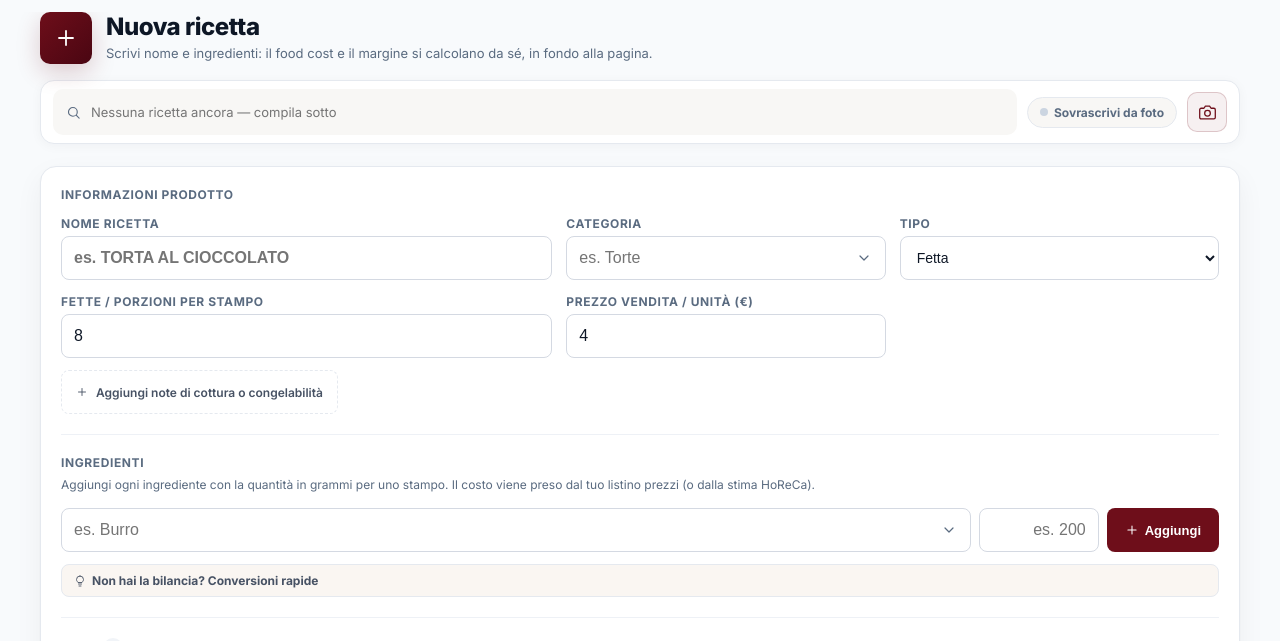
it: Nuovo gusto - note di cottura: apre e chiude › a sezione chiusa con qualcosa dentro, il pulsante lo dice e non fa credere che sia perso
Click the button "Aggiungi note di cottura o congelabilità": x=199, y=392 [61,370,338,414]
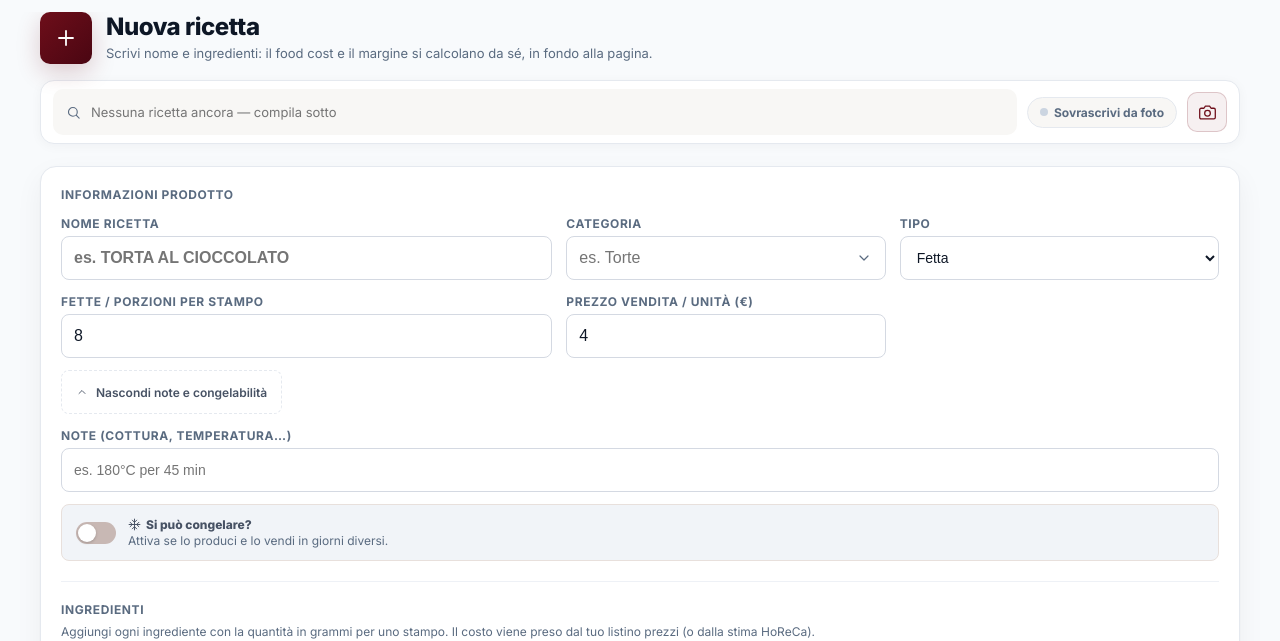
In the field named "note ricetta": x=640, y=470 [61,448,1219,492], type "180°C per 45 min"
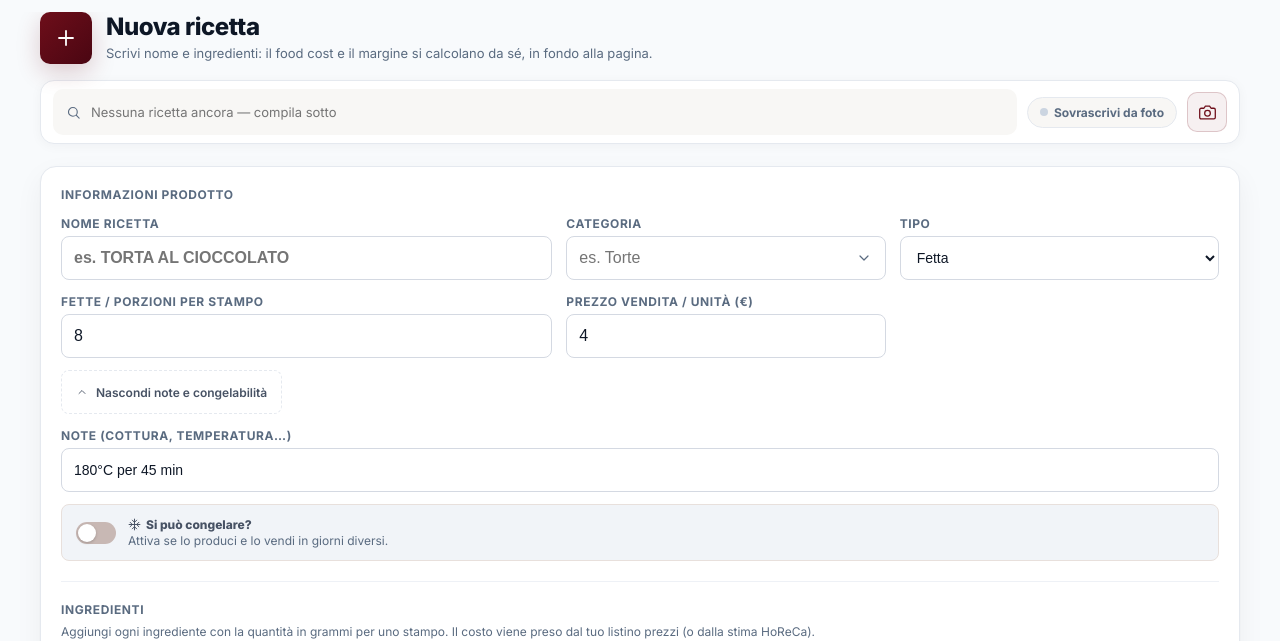
Click the button "Nascondi note e congelabilità": x=172, y=392 [61,370,282,414]
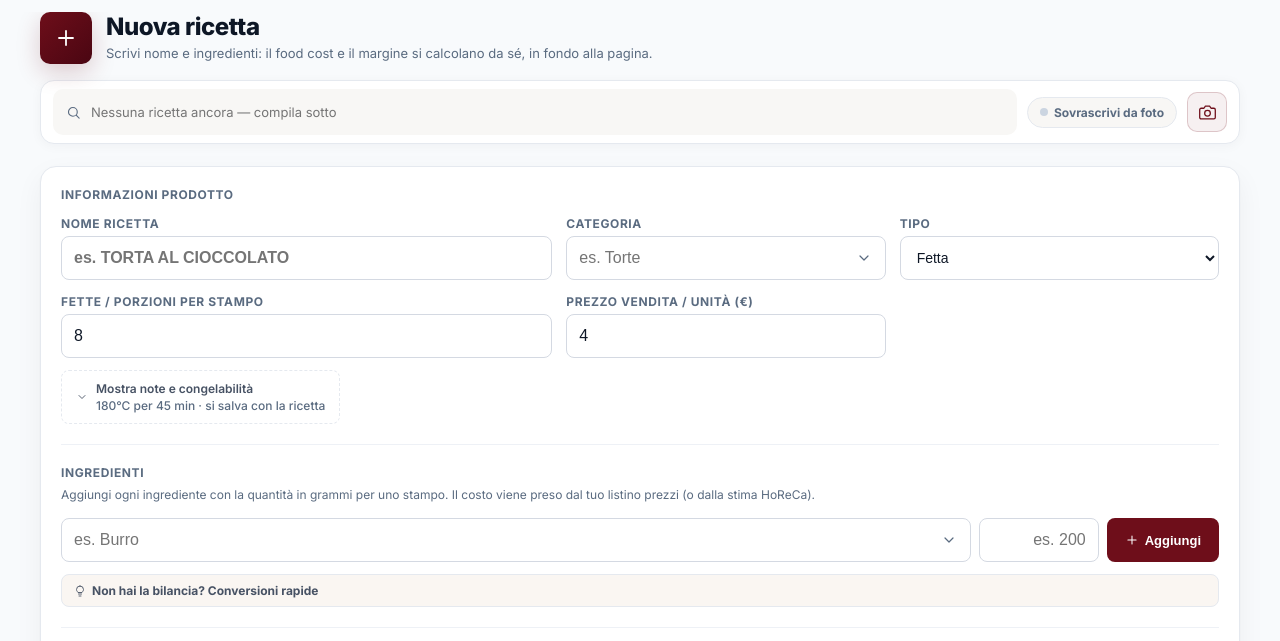
Check: the button that starts with "Mostra note e congelabilità" is shown, box [61,370,340,424]
Check: the button that starts with "Mostra note e congelabilità" shows "180°C per 45 min", box [61,370,340,424]
Check: the button that starts with "Mostra note e congelabilità" shows "si salva con la ricetta", box [61,370,340,424]
